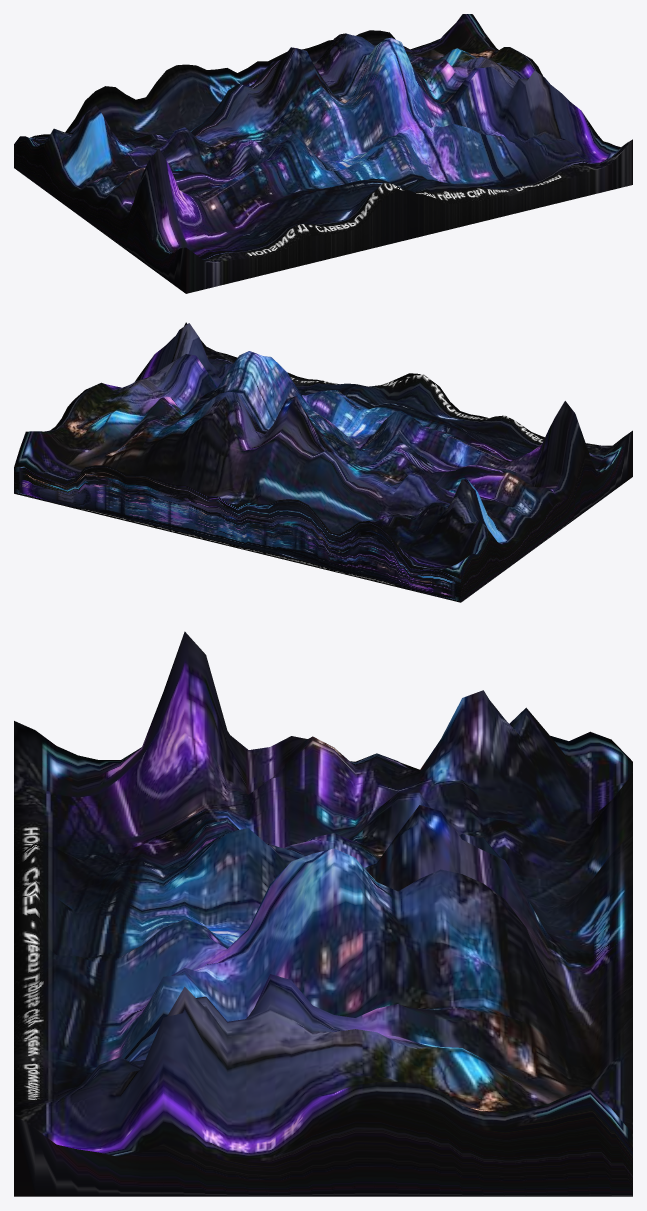
Rendered from HOUSING_17_Cyberpunk_Loft.glb.
3 renders of one model, top to bottom at view 1: azimuth 30°, elevation 25°; view 2: azimuth 150°, elevation 25°; view 3: azimuth 270°, elevation 25°, orthographic. The views are drawn at different scales.
Parts seen in each view (by area): view 1: HOUSING_17_Cyberpunk_Loft; view 2: HOUSING_17_Cyberpunk_Loft; view 3: HOUSING_17_Cyberpunk_Loft.
Part boxes in pixels (x1=…): HOUSING_17_Cyberpunk_Loft: x1=14, y1=14, x2=632, y2=293; HOUSING_17_Cyberpunk_Loft: x1=14, y1=322, x2=632, y2=602; HOUSING_17_Cyberpunk_Loft: x1=14, y1=631, x2=632, y2=1196.
Size of the model in its own units: 2 by 0.51 by 1.33.
1 material, 1 textured.
